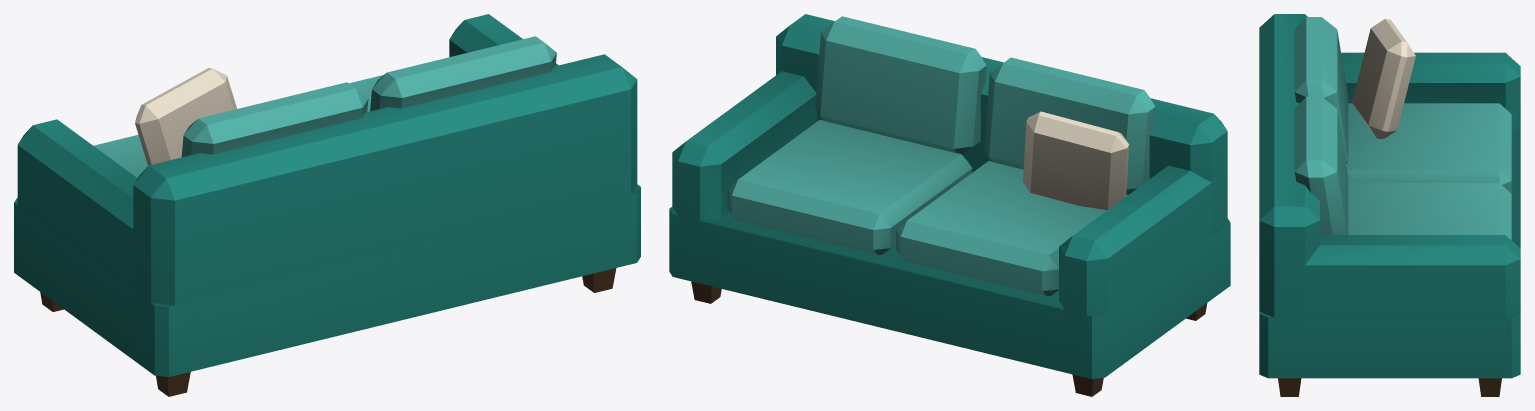
Rendered from sofa_2seat_01.glb.
3 views of the same model, side by side, from view 1: azimuth 30°, elevation 25°; view 2: azimuth 150°, elevation 25°; view 3: azimuth 270°, elevation 25° (orthographic). The views are drawn at different scales.
Visible parts, largest first — view 1: sofa_2seat_01_mesh; view 2: sofa_2seat_01_mesh; view 3: sofa_2seat_01_mesh.
Boxes of the visible parts, x1,y1,x2,y2 form: sofa_2seat_01_mesh: (14, 14, 640, 396); sofa_2seat_01_mesh: (669, 14, 1230, 396); sofa_2seat_01_mesh: (1259, 14, 1520, 396).
Bounding box in the file's own units: 1.6 × 0.7847 × 0.86.
1 material, 1 textured.
